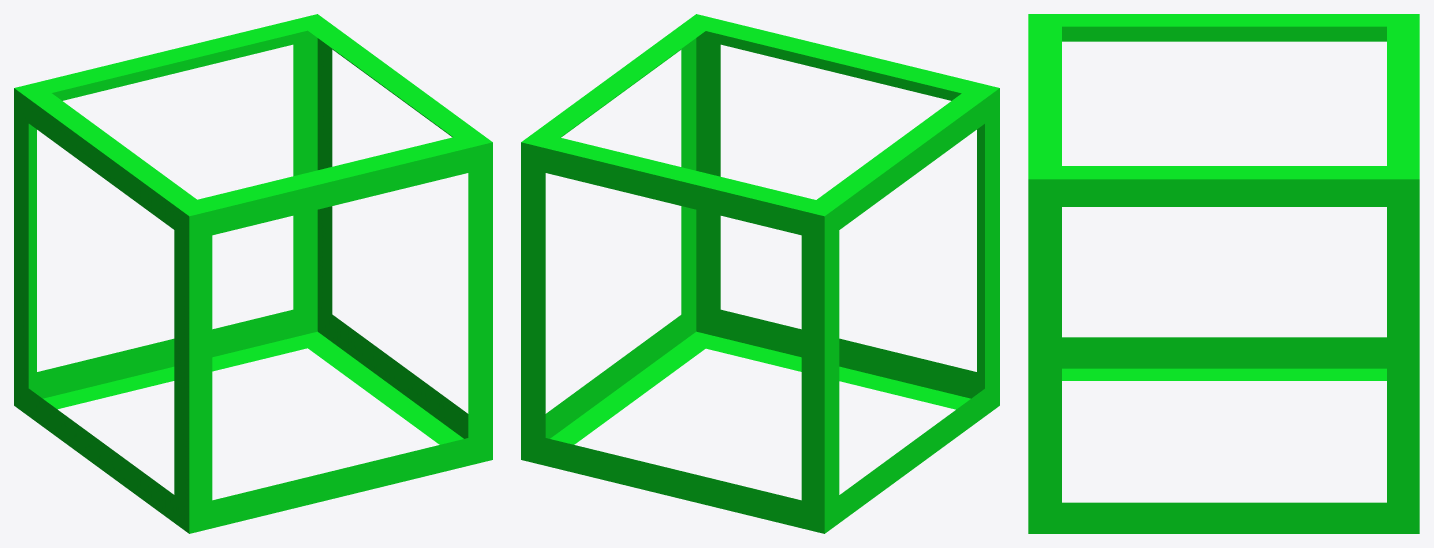
The model's file is collider.obj.
3 views of the same model, side by side, from view 1: azimuth 30°, elevation 25°; view 2: azimuth 150°, elevation 25°; view 3: azimuth 270°, elevation 25° (orthographic). The views are drawn at different scales.
Parts seen in each view (by area): view 1: Cube; view 2: Cube; view 3: Cube.
Boxes of the visible parts, <box> form: Cube: <box>14,14,492,533</box>; Cube: <box>521,14,999,533</box>; Cube: <box>1028,14,1419,533</box>.
Size of the model in its own units: 2 by 2 by 2.
